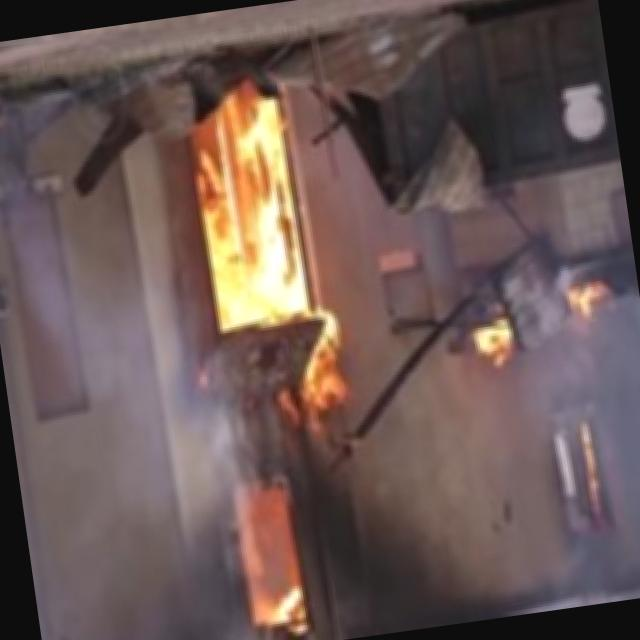fire: (186, 106, 327, 338), (224, 473, 327, 640)
